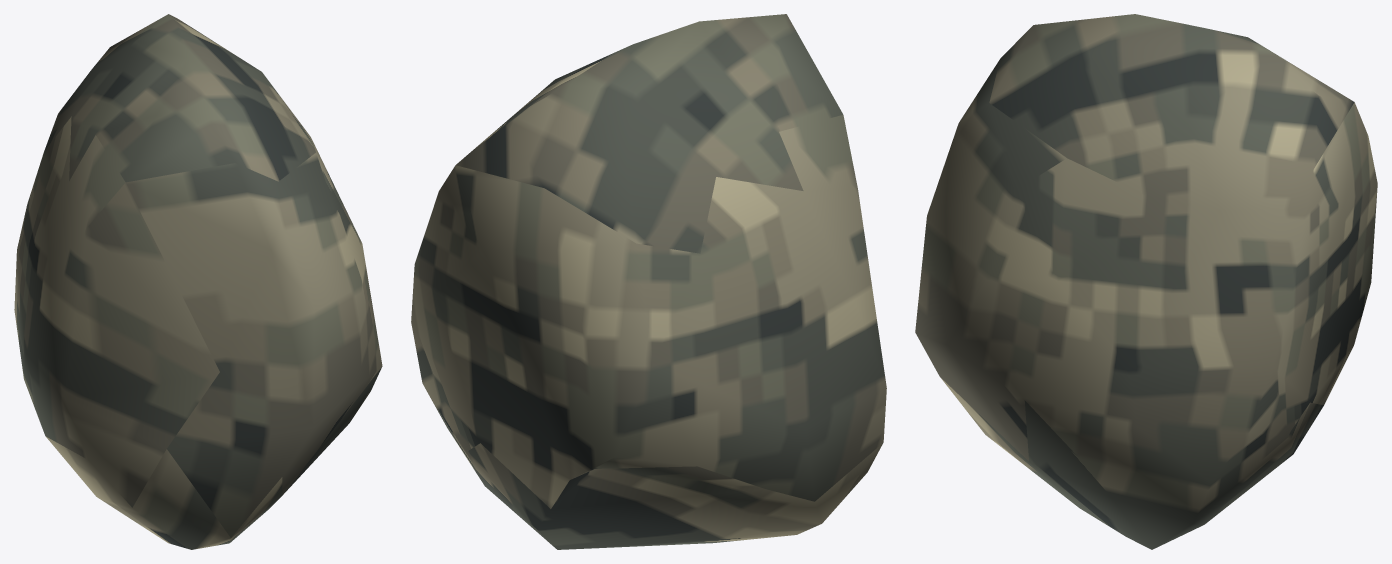
The model's file is rockSmall01 1.fbx.
3 views of the same model, side by side, from view 1: azimuth 30°, elevation 25°; view 2: azimuth 150°, elevation 25°; view 3: azimuth 270°, elevation 25° (orthographic). The views are drawn at different scales.
Parts seen in each view (by area): view 1: RockSmall1; view 2: RockSmall1; view 3: RockSmall1.
Part boxes in pixels (x1,y1,x2,y2): RockSmall1: [14, 14, 382, 549]; RockSmall1: [411, 14, 886, 549]; RockSmall1: [915, 14, 1377, 549].
Size of the model in its own units: 12.42 by 17.17 by 14.77.
